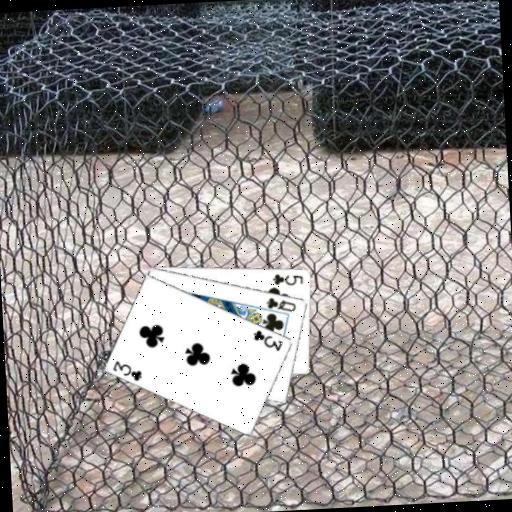3C: (251, 326, 286, 354), (109, 356, 144, 384)
5C: (269, 270, 305, 288)
QC: (263, 293, 298, 315)
